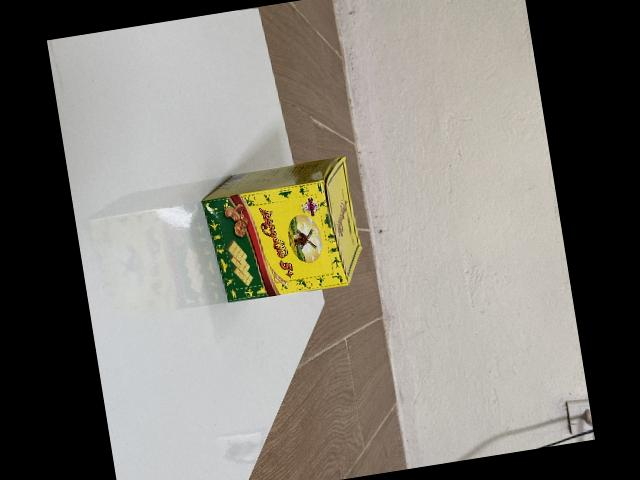luong_kho: (198, 156, 360, 304)
